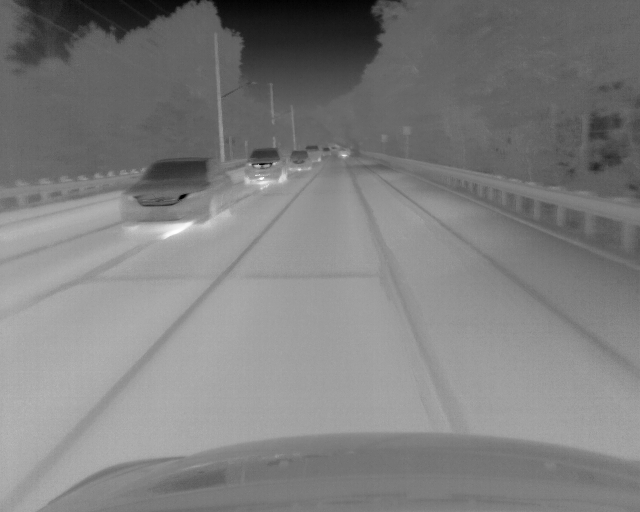car: (122, 157, 234, 225), (241, 147, 286, 188), (288, 150, 310, 173), (305, 145, 322, 162), (336, 148, 349, 160), (322, 147, 331, 157)
